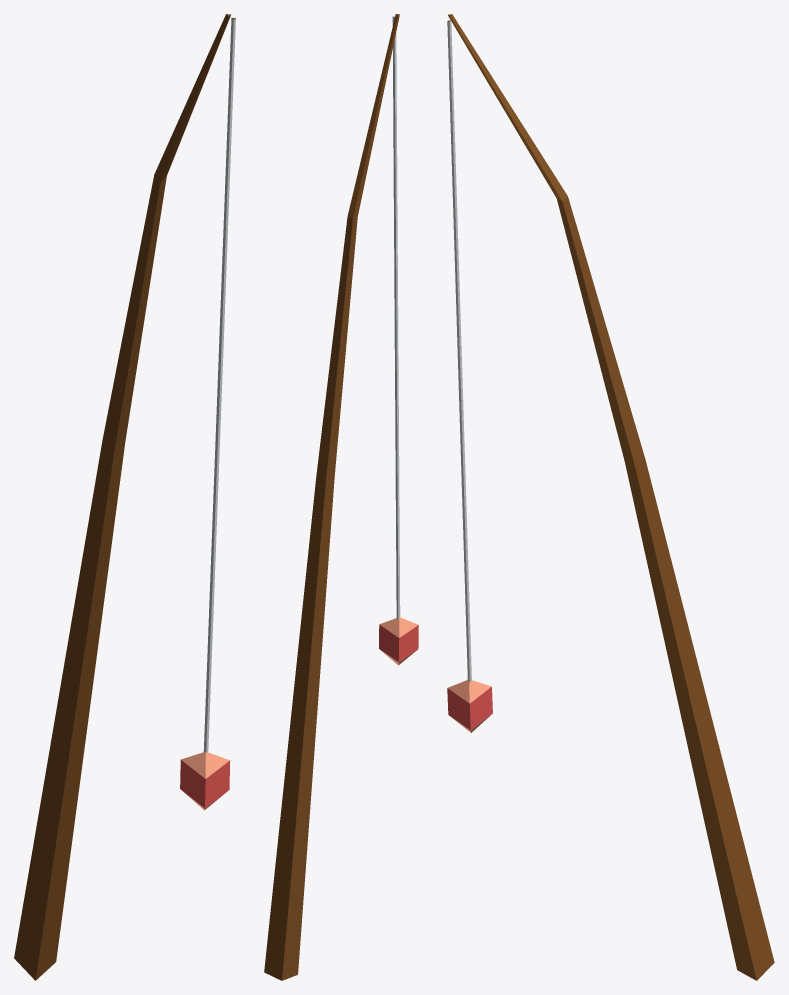
File: FishingRod.fbx
3 views of the same model, side by side, from view 1: azimuth 30°, elevation 25°; view 2: azimuth 150°, elevation 25°; view 3: azimuth 270°, elevation 25° (orthographic). The views are drawn at different scales.
Parts seen in each view (by area): view 1: pSphere4; view 2: pSphere4; view 3: pSphere4.
Boxes of the visible parts, x1,y1,x2,y2 form: pSphere4: (14,14,235,980); pSphere4: (264,14,418,980); pSphere4: (447,14,774,980).
Size of the model in its own units: 4.47 by 96.77 by 29.59.
